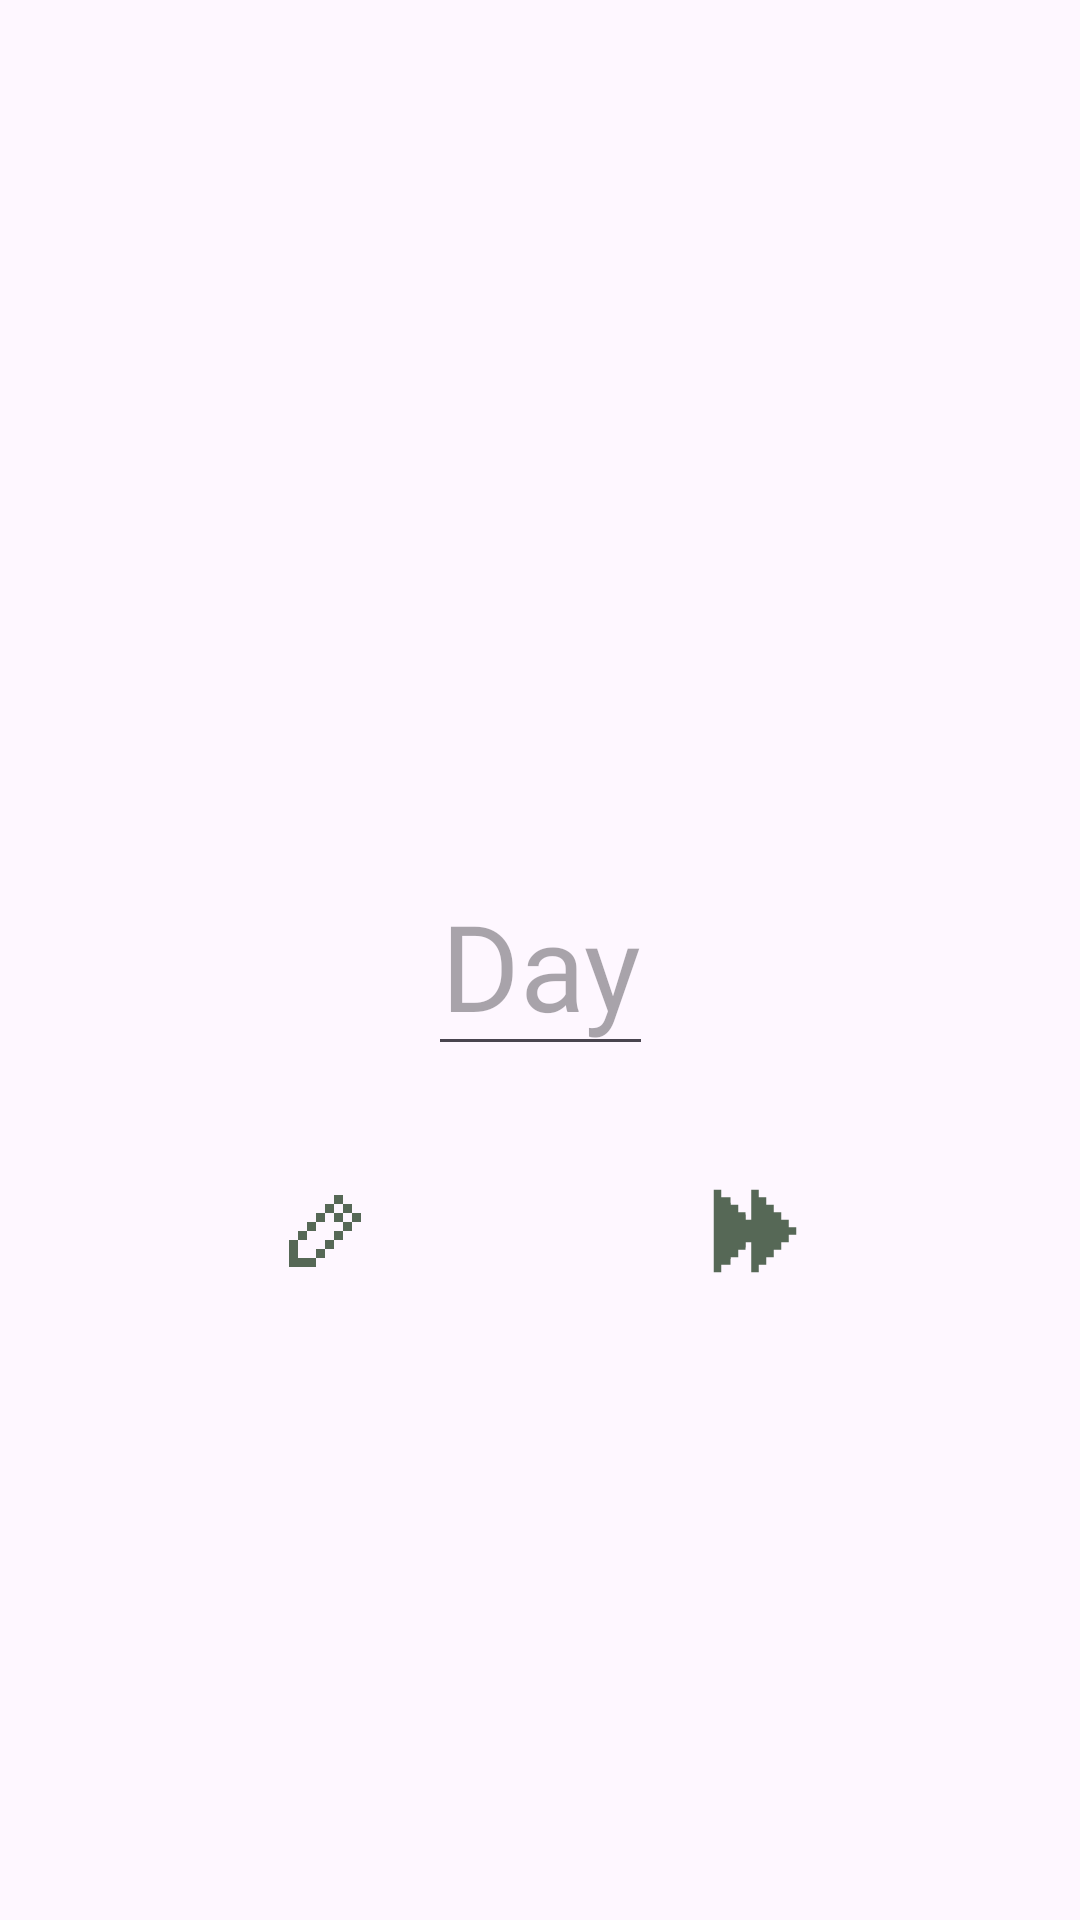

Icons on this 1080x1920 Android screen, each with the point to tap as point (x, y):
edit: point (325, 1231)
skip: point (755, 1231)
